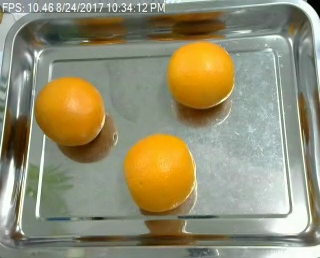Orange: (125, 134, 195, 213), (34, 77, 106, 146), (167, 41, 235, 110)
